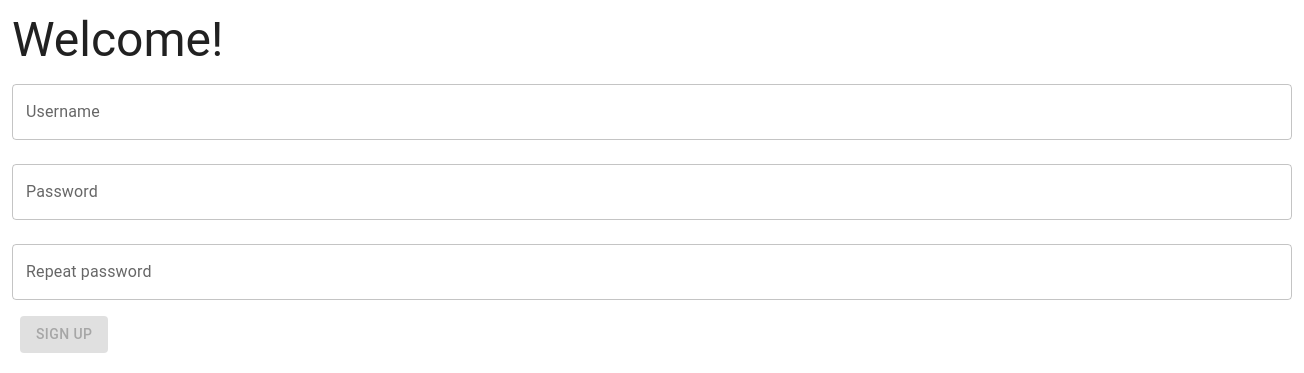
Test: AddUser component › should handle error when adding user
Simulate user input
Type "testUser" into the field labelled "Username".
click(652, 112); type("testUser")  # box [12,84,1292,140]
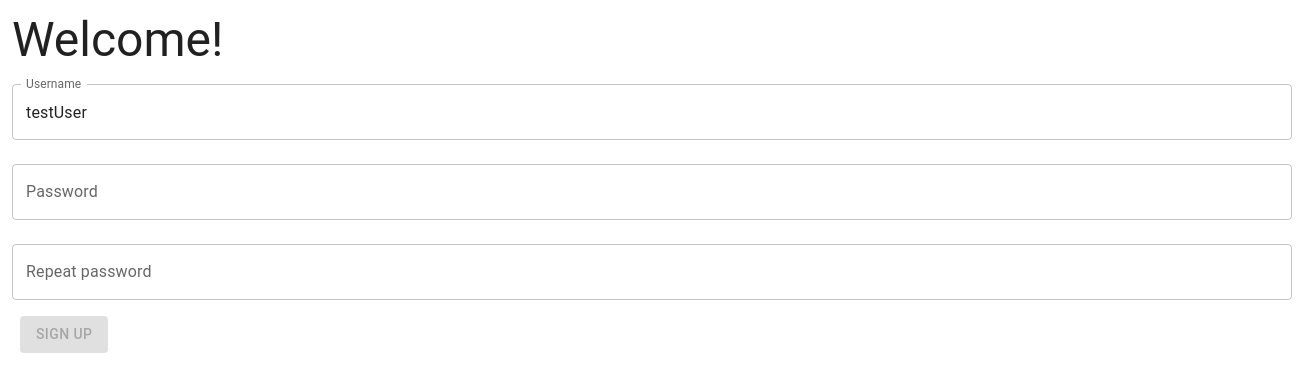
Type "testPassword" into the password field labelled "Password".
click(652, 192); type("testPassword")  # box [12,164,1292,220]
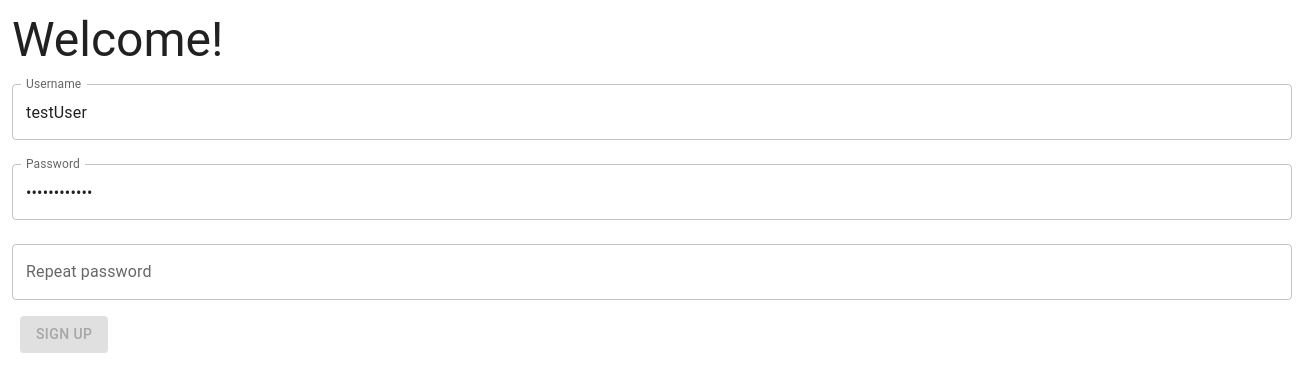
Type "test" into the password field labelled "Repeat password".
click(652, 272); type("test")  # box [12,244,1292,300]
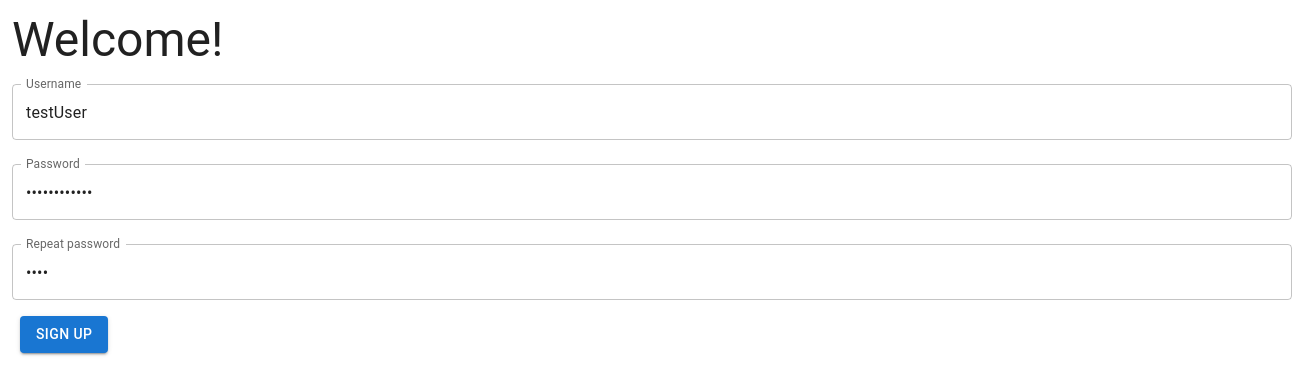
Now the button with test id "signupButton" is enabled
Trigger the add user button click
Click the button with test id "signupButton".
click(64, 334)  # box [20,316,108,352]
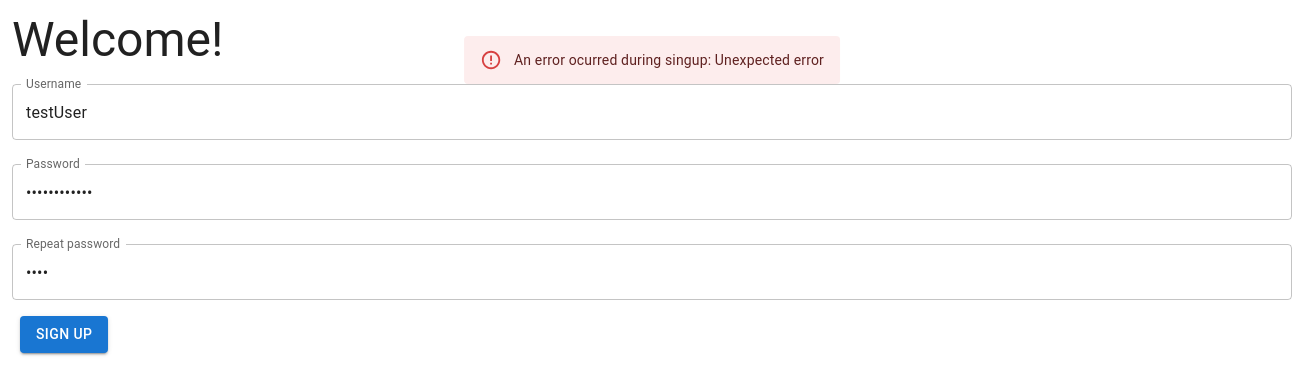
Now the message "An error ocurred during singup: Unexpected error" is shown, box [464,36,840,84]
